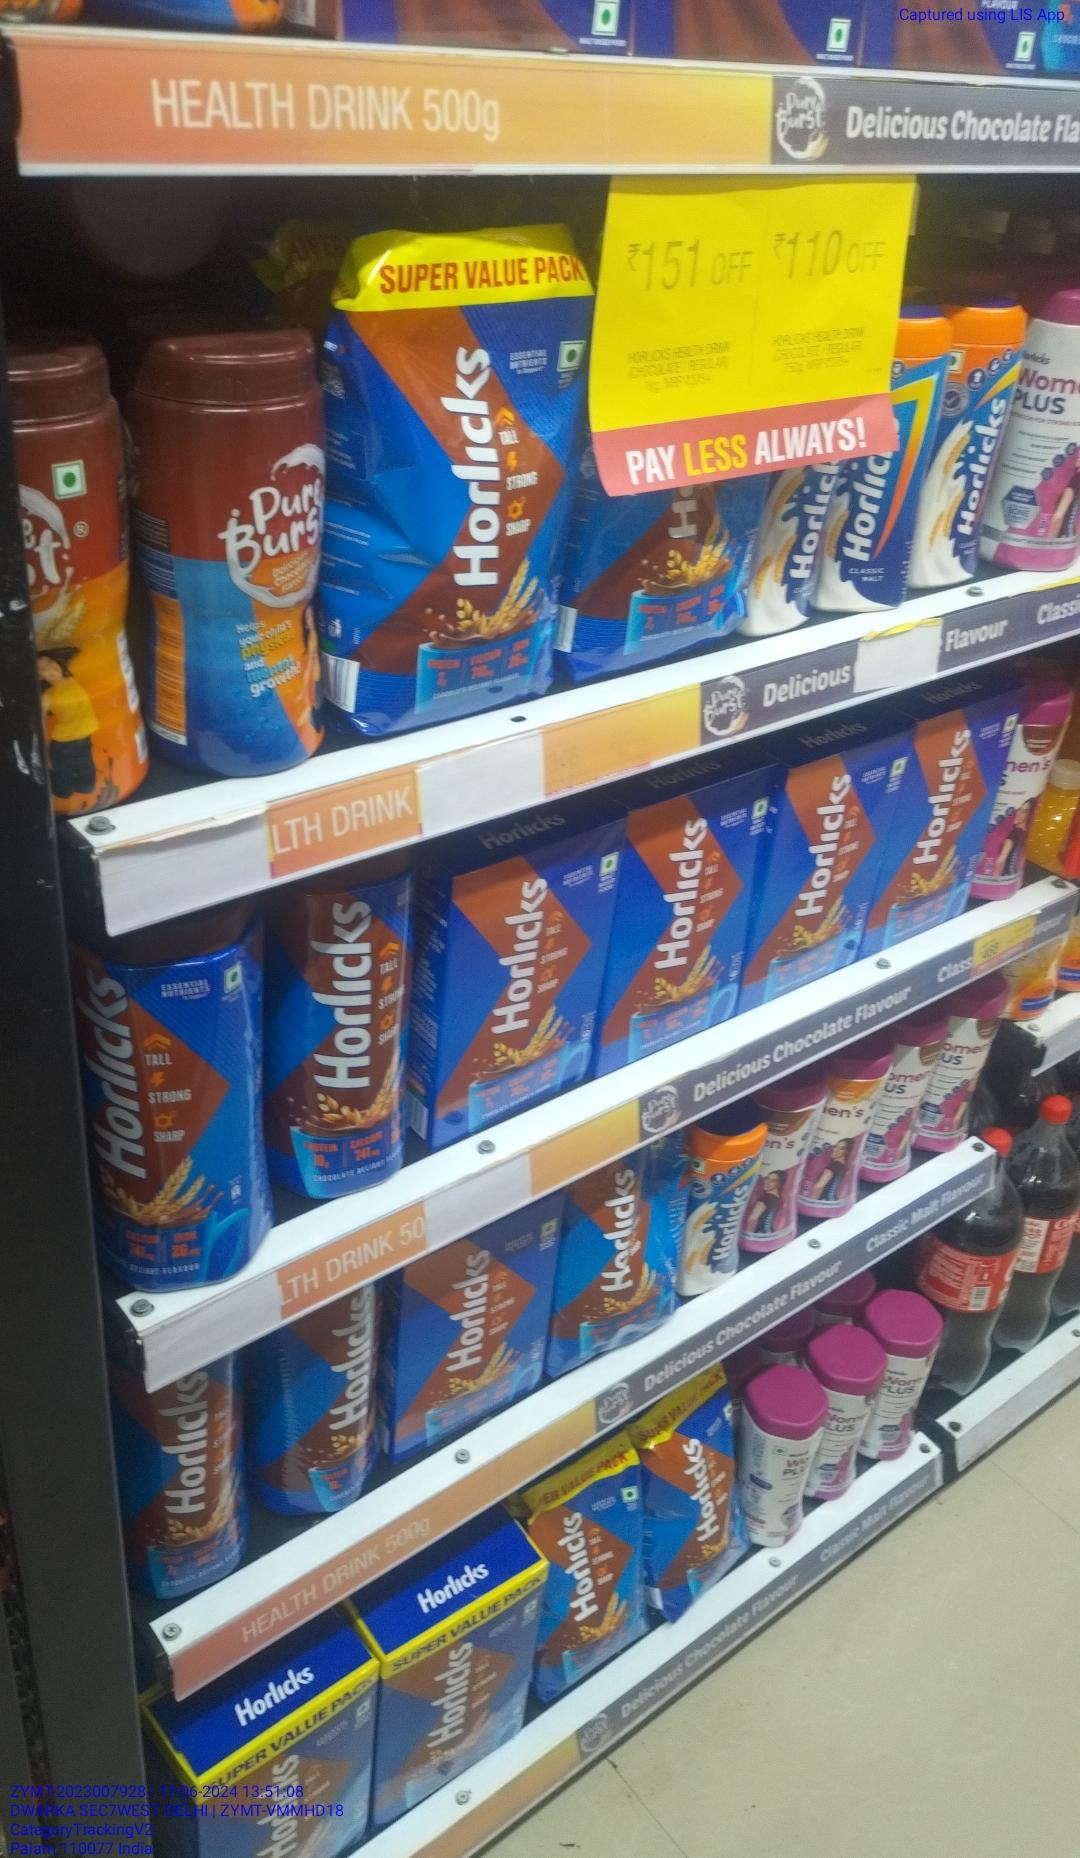HORLICK_CHOCOLATE_1_KG_JAR: (90, 914, 269, 1306), (275, 863, 409, 1195)
HORLICK_CHOCOLATE_500_G_JAR: (126, 1359, 251, 1596), (262, 1309, 384, 1516)
HORLICK_CHOCOLATE_500_G_PACK: (435, 832, 603, 1116), (607, 778, 756, 1042), (760, 737, 888, 991), (397, 1231, 550, 1436), (887, 692, 1003, 927)
HORLICK_CHOCOLATE_750_G_POUCH: (327, 225, 579, 714)
